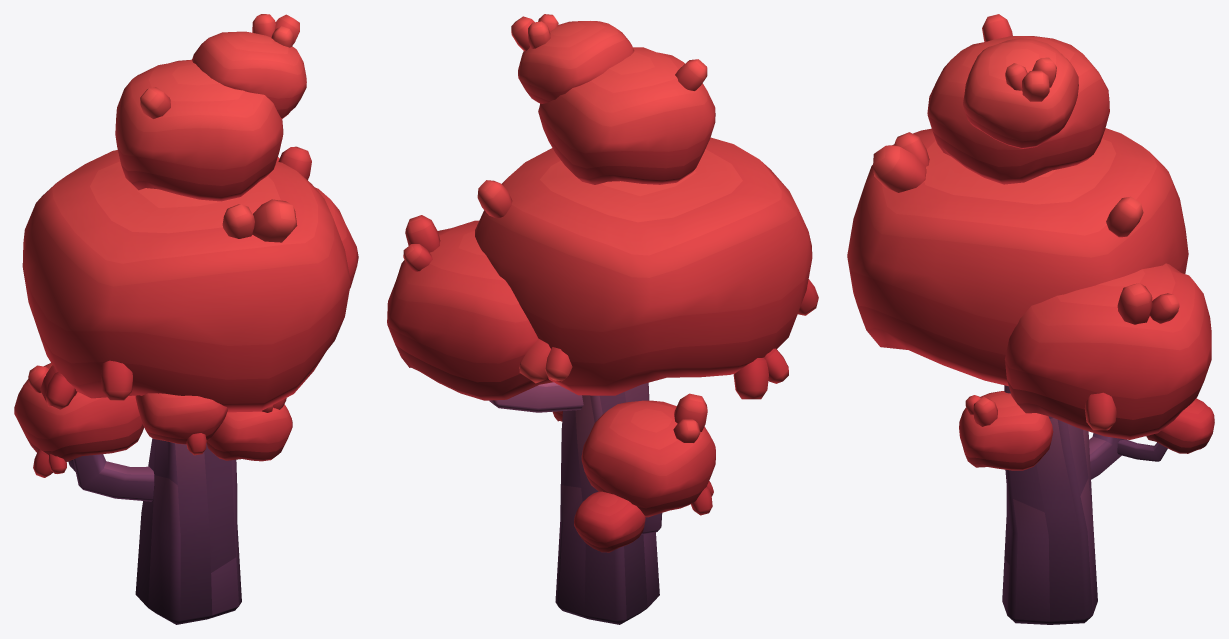
File: grassland_tree_col3_8.fbx
3 views of the same model, side by side, from view 1: azimuth 30°, elevation 25°; view 2: azimuth 150°, elevation 25°; view 3: azimuth 270°, elevation 25° (orthographic). The views are drawn at different scales.
Parts seen in each view (by area): view 1: grassland_tree_col3_8; view 2: grassland_tree_col3_8; view 3: grassland_tree_col3_8.
Part boxes in pixels (left/top/right/bottom): grassland_tree_col3_8: left=14, top=14, right=358, bottom=624; grassland_tree_col3_8: left=387, top=14, right=818, bottom=624; grassland_tree_col3_8: left=847, top=14, right=1214, bottom=624.
Size of the model in its own units: 945 by 1486 by 845.
Materials: 1 (1 with a texture image).
